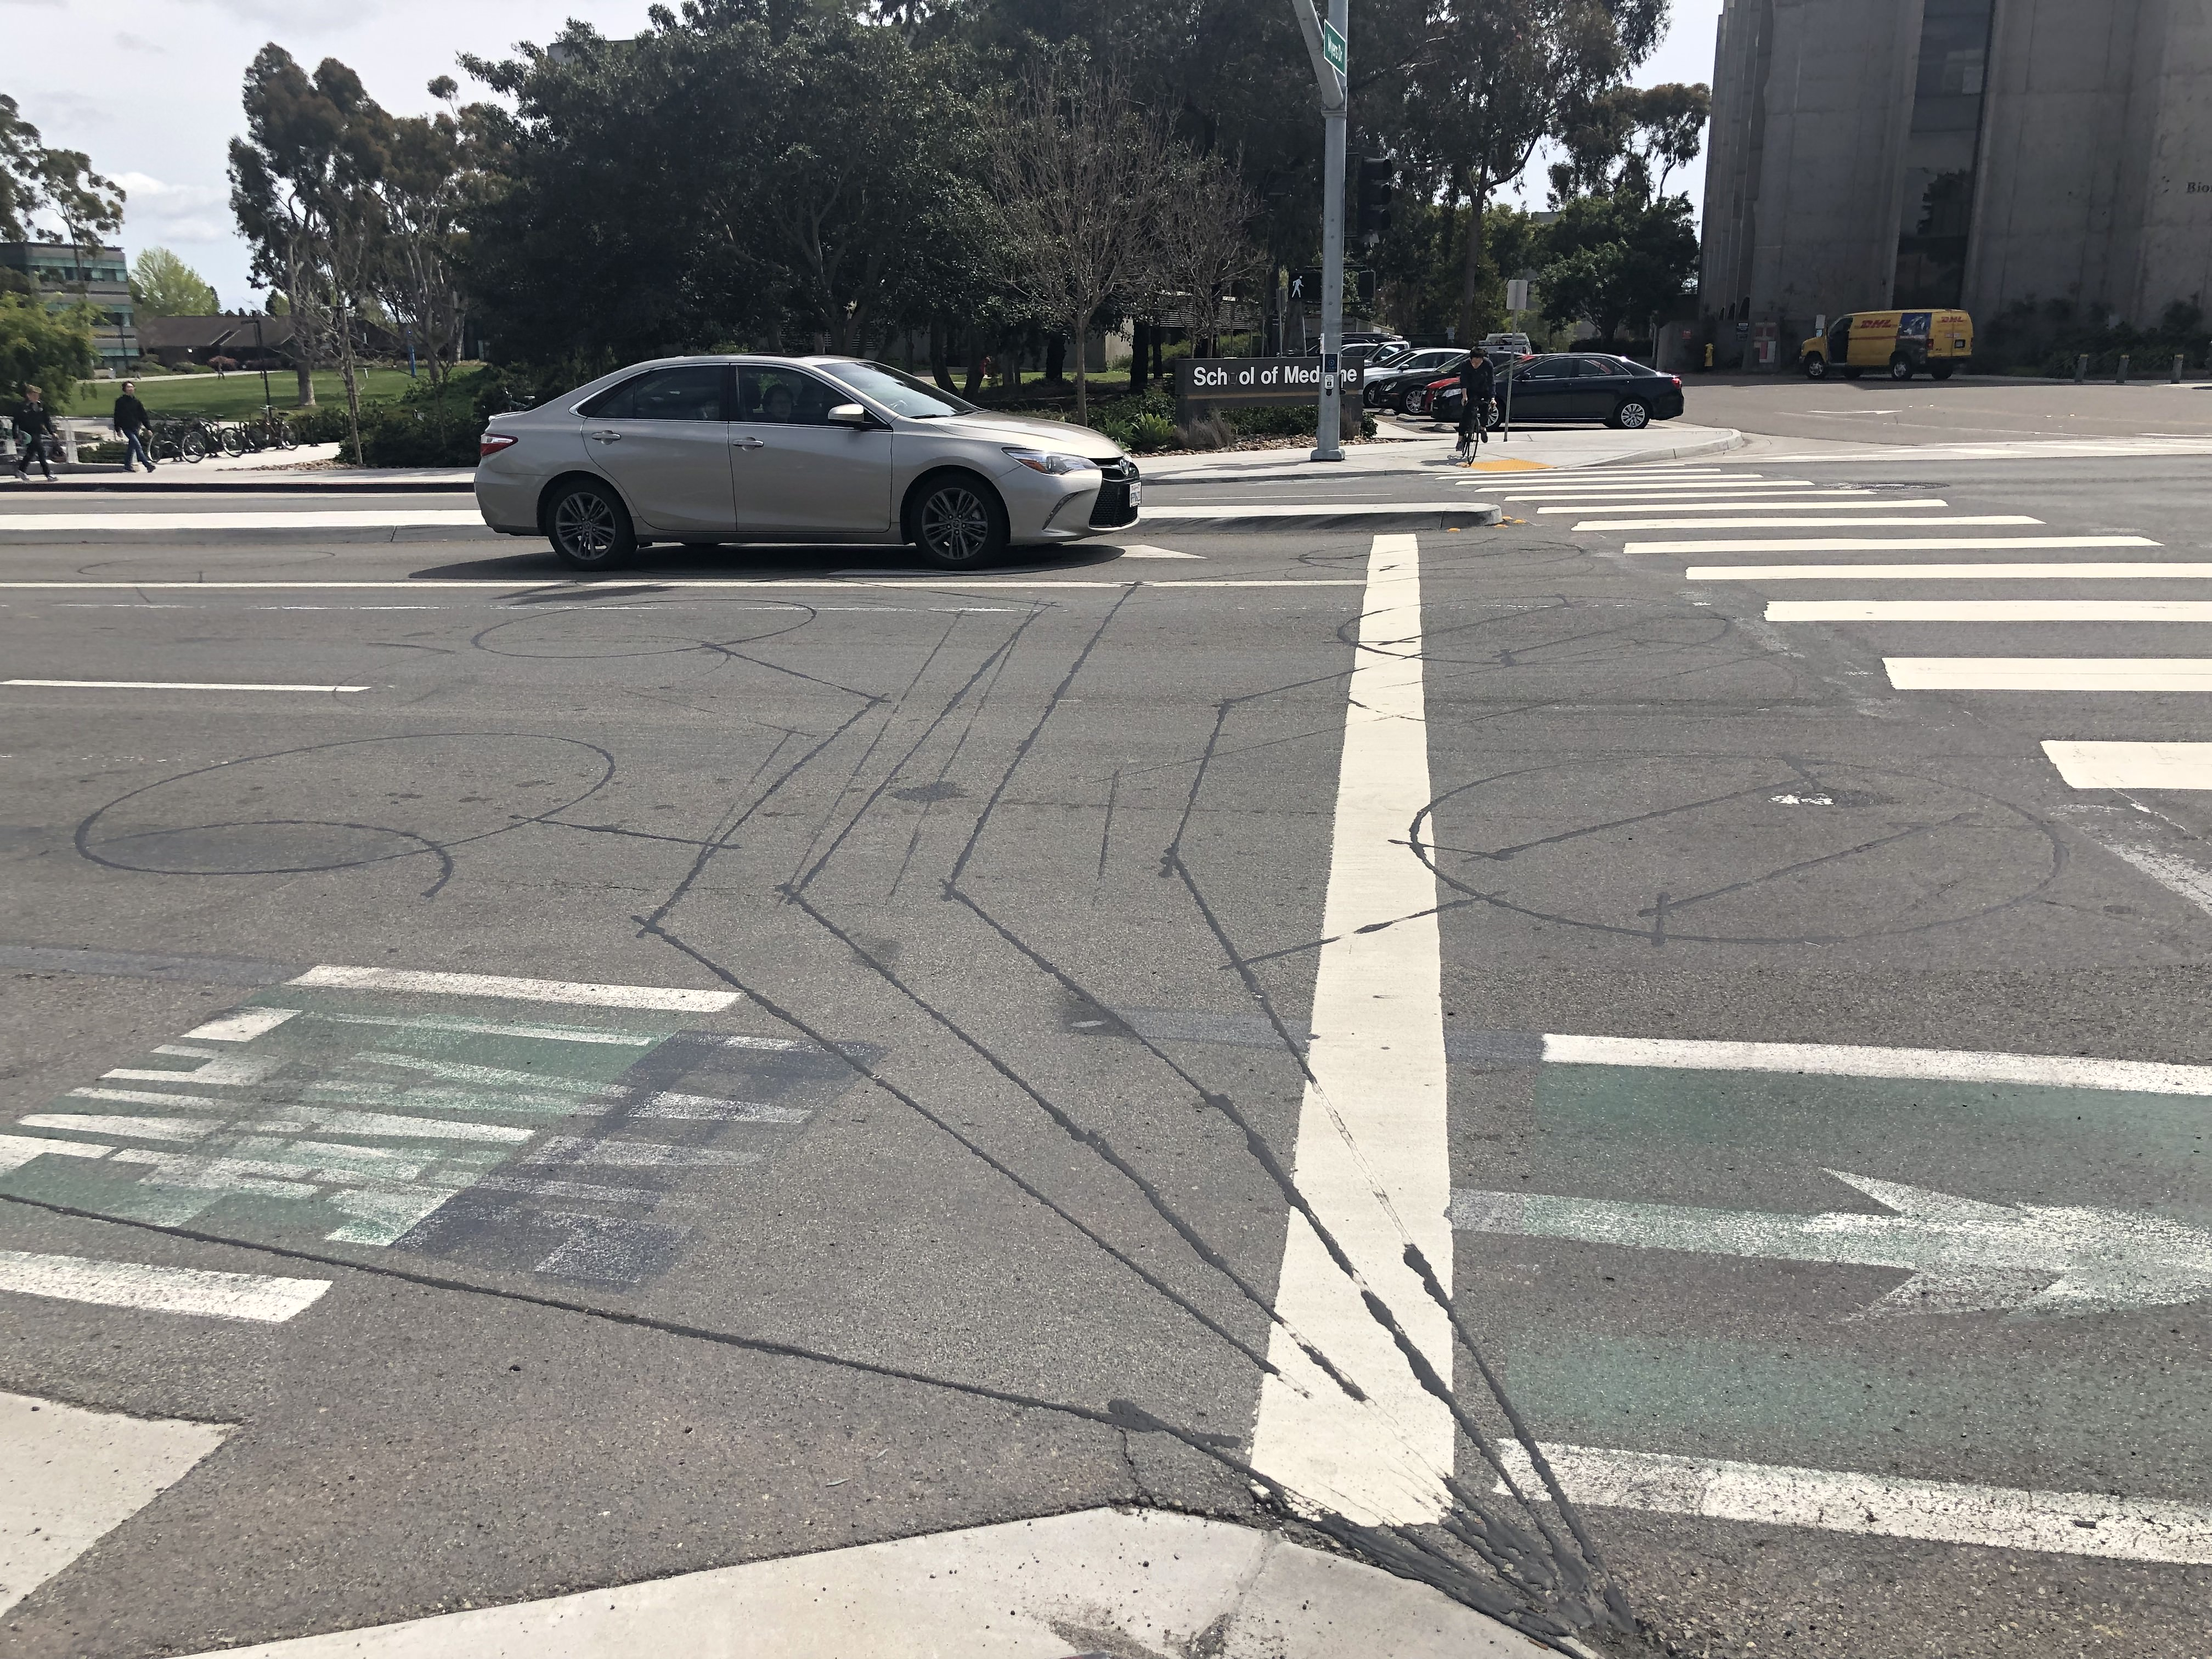Edge: (9, 500, 1512, 554)
Obstacle: (465, 362, 1136, 568), (1303, 35, 1352, 465), (1439, 340, 1501, 465)
